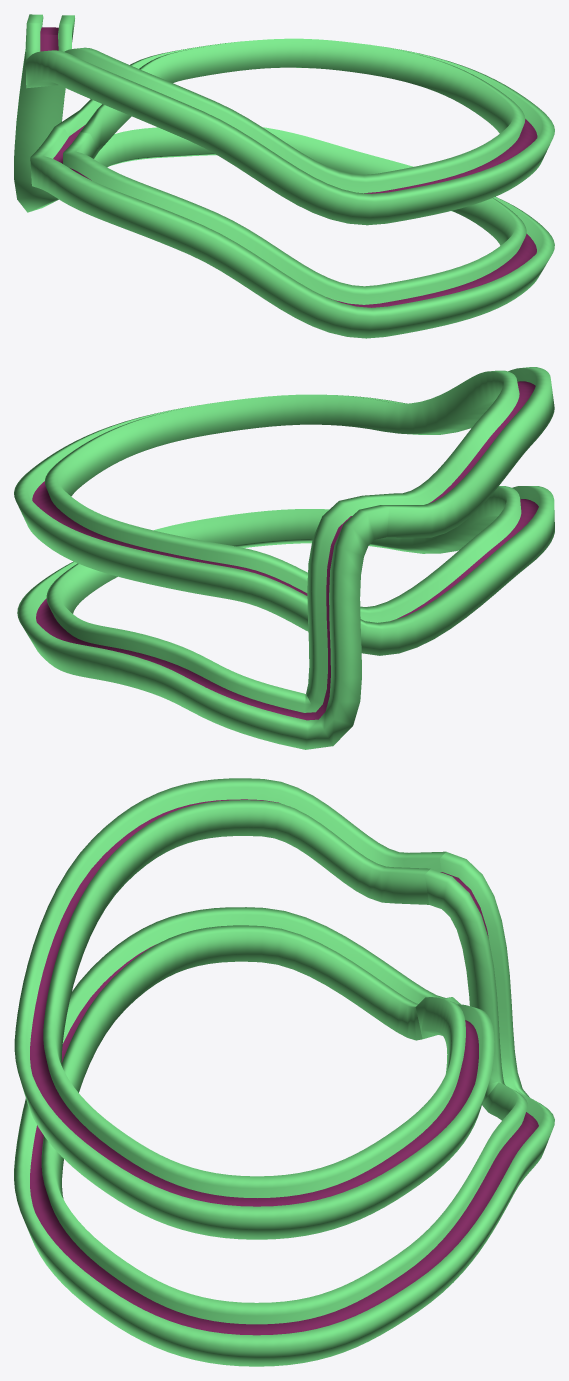
The model's file is upgradelevel2 (1).fbx.
3 renders of one model, top to bottom at view 1: azimuth 30°, elevation 25°; view 2: azimuth 150°, elevation 25°; view 3: azimuth 270°, elevation 25°, orthographic. The views are drawn at different scales.
Parts seen in each view (by area): view 1: BezierCircle.008; view 2: BezierCircle.008; view 3: BezierCircle.008.
Boxes of the visible parts, <box> form: BezierCircle.008: <box>14,14,554,338</box>; BezierCircle.008: <box>14,367,554,749</box>; BezierCircle.008: <box>14,778,554,1366</box>.
Bounding box in the file's own units: 1152 × 693 × 1004.
